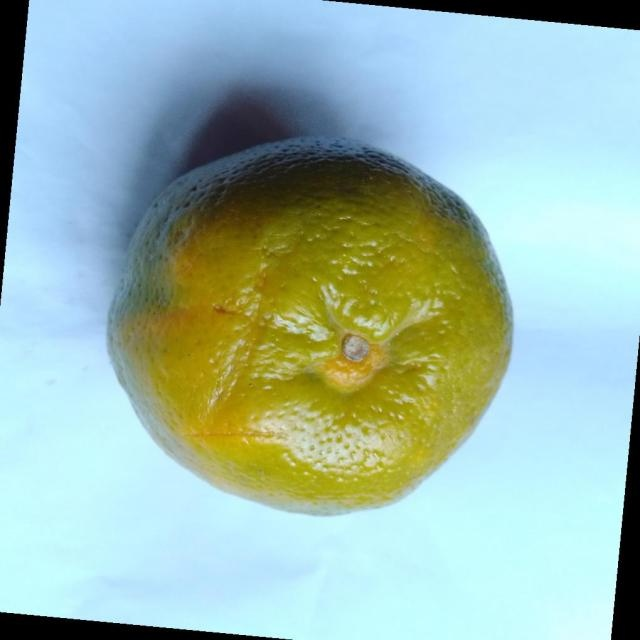agrume: (105, 133, 514, 518)
